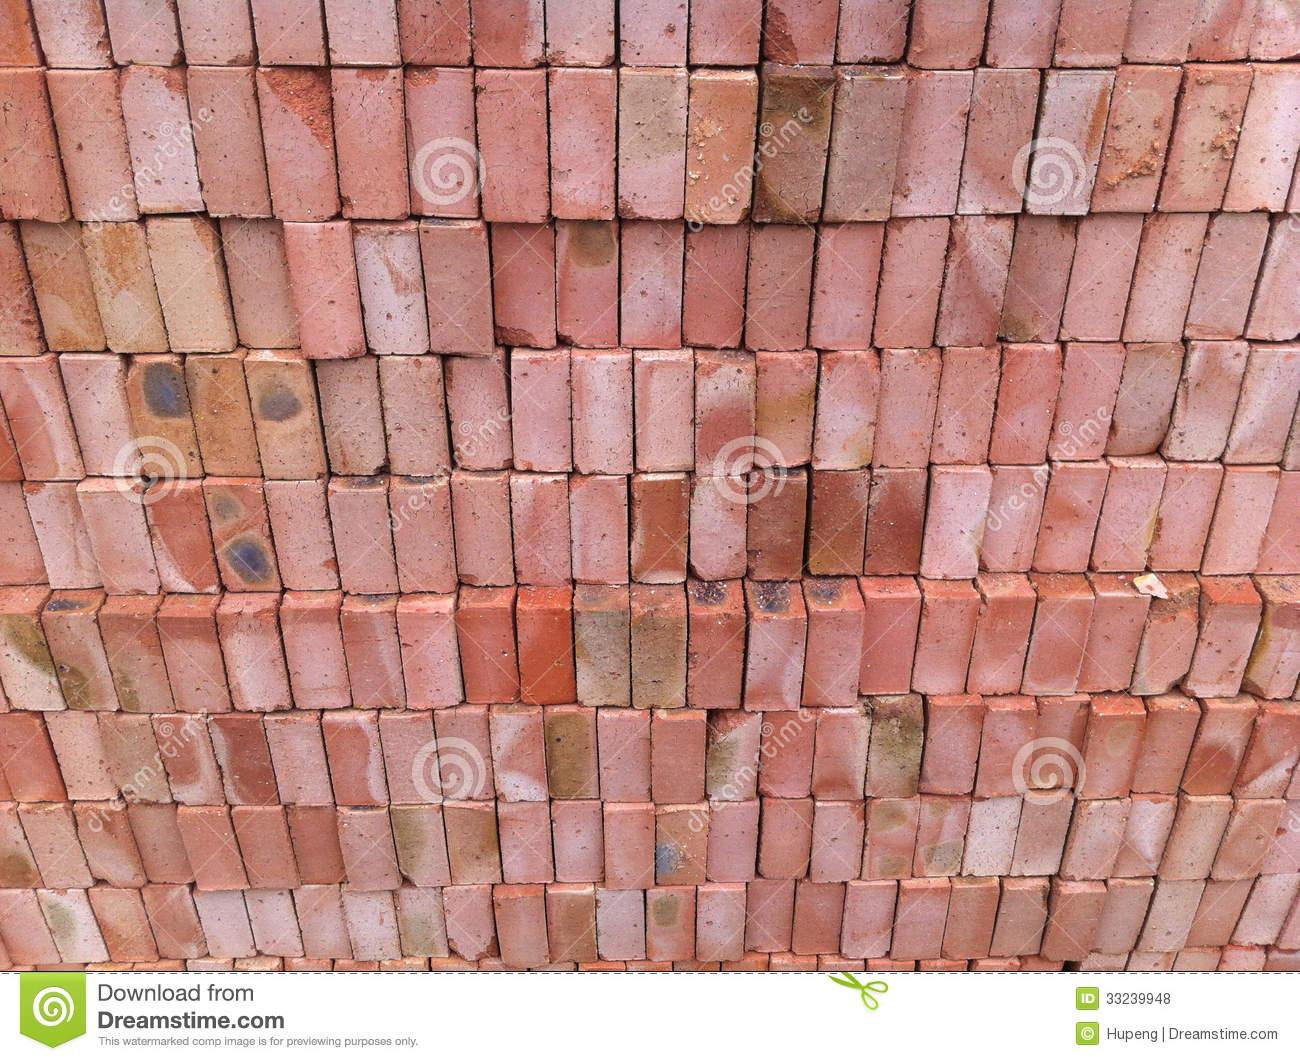brick: (45, 70, 139, 219), (1157, 69, 1254, 213), (1089, 66, 1181, 212), (187, 65, 269, 218), (1027, 71, 1114, 215), (258, 67, 339, 221), (121, 66, 205, 213), (958, 69, 1041, 214), (753, 76, 835, 221), (146, 218, 234, 352), (891, 71, 972, 217), (330, 69, 408, 218), (824, 76, 904, 219), (283, 222, 366, 358), (21, 221, 107, 352), (1223, 67, 1300, 213), (1123, 214, 1209, 342), (83, 223, 170, 352), (476, 70, 549, 221), (405, 68, 477, 217), (686, 77, 757, 225), (1186, 213, 1269, 339), (937, 217, 1015, 349), (220, 219, 300, 346), (0, 70, 67, 221), (1165, 341, 1249, 460), (1, 358, 84, 478), (353, 225, 430, 354), (1059, 214, 1139, 338), (875, 219, 950, 350), (549, 68, 613, 218), (58, 358, 141, 475), (619, 72, 685, 219), (999, 218, 1075, 342), (420, 225, 492, 355), (244, 361, 325, 477), (125, 359, 204, 477), (1047, 342, 1125, 460), (1103, 342, 1183, 455), (989, 342, 1062, 465), (186, 357, 261, 476), (811, 227, 883, 350), (77, 490, 160, 596), (747, 225, 815, 352), (1223, 352, 1300, 463), (872, 348, 942, 467), (24, 481, 100, 589), (380, 357, 450, 475), (931, 348, 1001, 464), (204, 485, 281, 590), (1203, 471, 1282, 573), (555, 220, 618, 349), (621, 220, 682, 350), (316, 358, 384, 475), (266, 481, 339, 589), (144, 488, 219, 593), (1147, 467, 1223, 570), (1092, 467, 1168, 570), (492, 223, 555, 349), (1033, 467, 1109, 571), (813, 351, 879, 470), (99, 613, 177, 713), (217, 610, 294, 710), (921, 471, 992, 579), (683, 227, 746, 346), (1130, 587, 1200, 695), (1079, 595, 1155, 692), (43, 613, 120, 710), (1182, 602, 1260, 697), (390, 485, 457, 594), (328, 489, 398, 593), (1020, 598, 1095, 695), (571, 354, 632, 473), (1244, 213, 1300, 340), (447, 357, 511, 470), (280, 607, 350, 708), (159, 615, 231, 712), (451, 476, 515, 586), (756, 355, 818, 466), (983, 468, 1048, 572), (513, 356, 571, 472), (967, 596, 1037, 693), (695, 359, 754, 474), (635, 357, 694, 470), (99, 713, 173, 803), (397, 610, 462, 710), (913, 596, 979, 694), (0, 613, 66, 710), (154, 717, 226, 806), (863, 470, 924, 573), (809, 472, 870, 575), (511, 476, 569, 585), (44, 712, 118, 799), (342, 610, 406, 709), (208, 717, 280, 805), (857, 597, 921, 695), (569, 477, 627, 584), (1186, 707, 1257, 794), (746, 476, 804, 581), (1130, 706, 1200, 793), (265, 717, 334, 804), (19, 808, 95, 888), (632, 478, 689, 583), (0, 712, 67, 801), (801, 610, 863, 706), (746, 615, 808, 711), (920, 704, 985, 794), (690, 477, 747, 580), (322, 719, 389, 806), (459, 606, 518, 704), (1078, 713, 1146, 799), (1213, 802, 1287, 879), (73, 808, 146, 887), (1161, 801, 1232, 881), (517, 607, 575, 704), (380, 717, 444, 805), (975, 709, 1039, 797), (232, 811, 303, 888), (866, 703, 924, 797), (179, 812, 249, 889), (1028, 699, 1089, 788), (909, 0, 988, 69), (689, 613, 745, 709), (1236, 712, 1300, 797), (32, 0, 111, 68), (126, 804, 194, 883), (1, 223, 42, 354), (1113, 797, 1179, 878), (89, 888, 160, 963), (575, 610, 631, 706), (813, 709, 871, 800), (631, 615, 687, 709), (490, 713, 549, 803), (435, 711, 493, 800), (1066, 801, 1130, 880), (38, 889, 108, 962), (986, 0, 1060, 68), (1010, 798, 1073, 876), (339, 810, 402, 889), (471, 1, 545, 68), (105, 0, 180, 66), (143, 884, 208, 960), (324, 0, 401, 65), (1249, 602, 1300, 699), (1231, 874, 1300, 946), (390, 806, 450, 887), (1055, 1, 1132, 65), (707, 711, 762, 800), (178, 0, 256, 63), (759, 709, 813, 799), (961, 795, 1021, 875), (252, 0, 326, 65), (0, 482, 46, 585), (287, 805, 348, 883), (1186, 880, 1256, 947), (545, 711, 598, 800), (863, 799, 920, 880), (598, 713, 651, 801), (1137, 882, 1206, 949), (766, 1, 839, 64), (443, 805, 501, 884), (651, 717, 704, 803), (1089, 881, 1155, 950), (690, 0, 761, 64), (398, 1, 470, 65), (292, 885, 352, 960), (912, 800, 971, 876), (837, 0, 909, 62), (1257, 473, 1300, 575), (498, 804, 554, 883), (0, 889, 59, 964), (546, 0, 614, 65), (1045, 892, 1108, 962), (619, 0, 687, 64), (1123, 0, 1192, 63), (552, 801, 605, 882), (194, 889, 256, 957), (707, 802, 759, 882), (604, 808, 655, 888), (943, 885, 1000, 957), (811, 803, 863, 882), (892, 886, 948, 958), (655, 807, 708, 884), (342, 892, 401, 961), (1187, 1, 1254, 60), (761, 800, 811, 880), (442, 886, 496, 960), (495, 894, 549, 967), (245, 890, 304, 956), (793, 881, 845, 954), (990, 886, 1046, 954), (395, 888, 448, 960), (844, 884, 896, 956), (745, 880, 796, 952), (1, 808, 45, 889), (696, 888, 746, 960), (547, 890, 597, 962), (646, 887, 694, 960), (597, 889, 645, 961), (1248, 1, 1300, 60)
